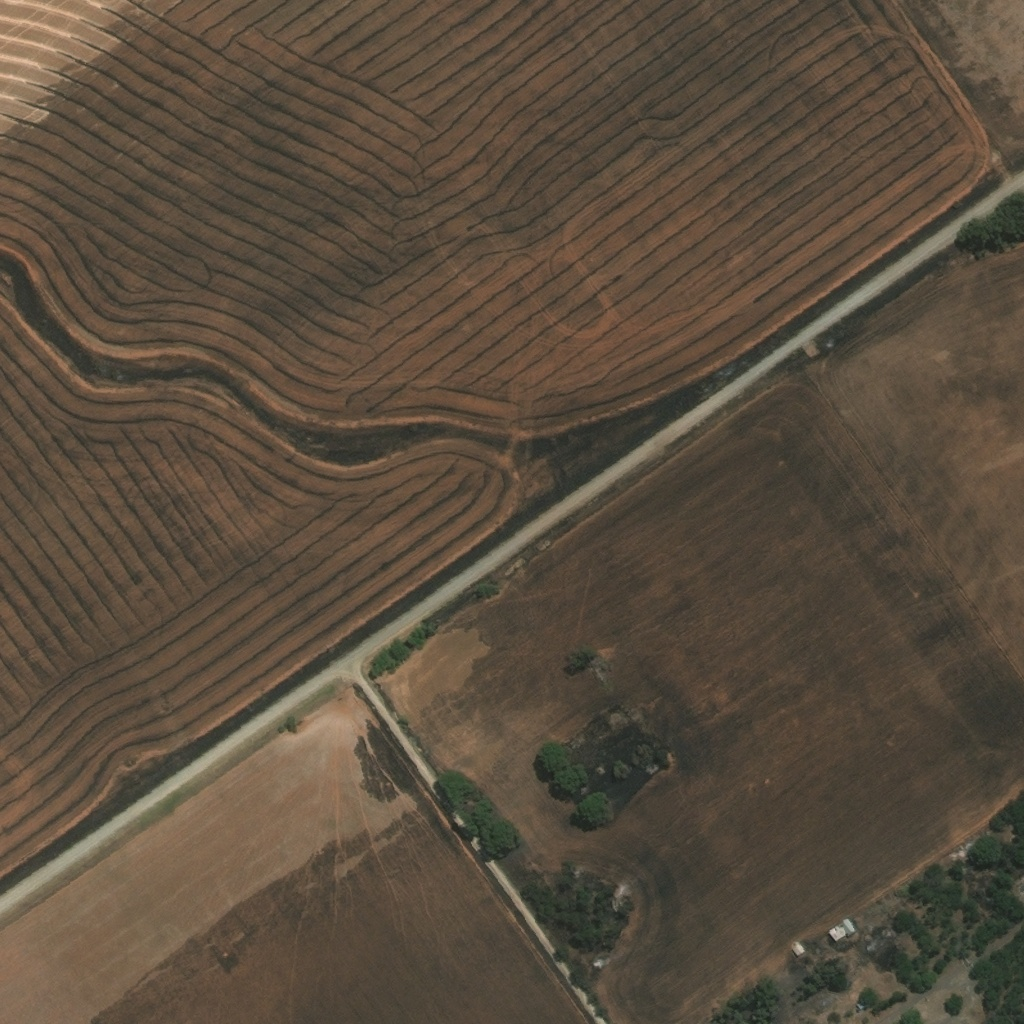0 no-damage: (826, 924, 845, 944), (839, 919, 856, 938), (788, 943, 804, 959)
